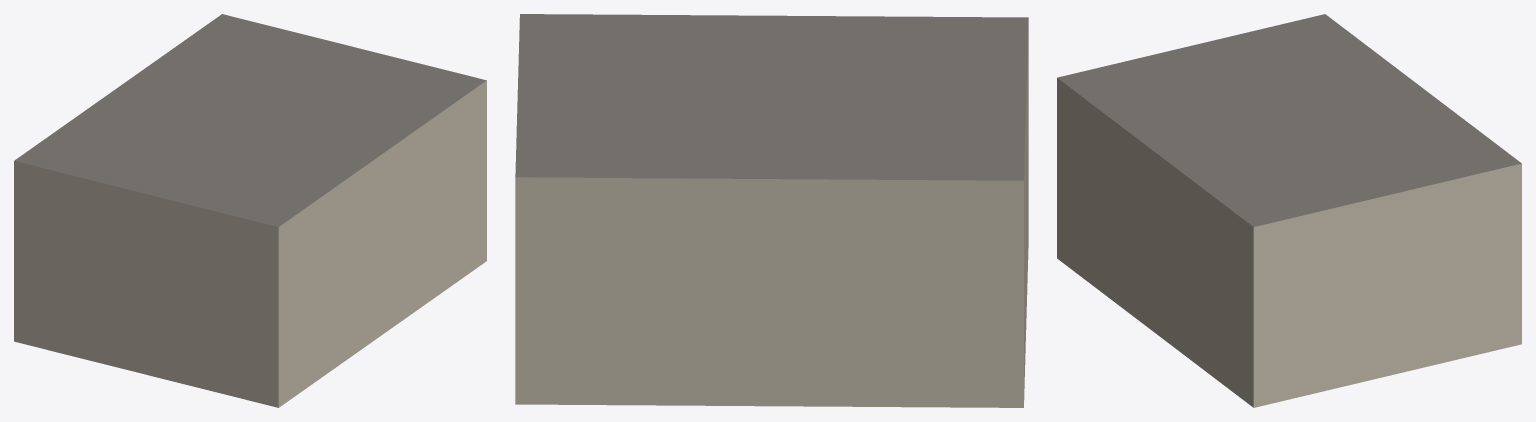
3 renders of one model, left to right at view 1: azimuth 30°, elevation 25°; view 2: azimuth 150°, elevation 25°; view 3: azimuth 270°, elevation 25°, orthographic. The views are drawn at different scales.
Visible parts, largest first — view 1: HP-w369237857; view 2: HP-w369237857; view 3: HP-w369237857.
Boxes of the visible parts, bbox=[...] form: HP-w369237857: bbox=[14, 14, 486, 407]; HP-w369237857: bbox=[515, 14, 1028, 407]; HP-w369237857: bbox=[1057, 14, 1521, 407].
Size of the model in its own units: 45.52 by 18 by 41.95.
